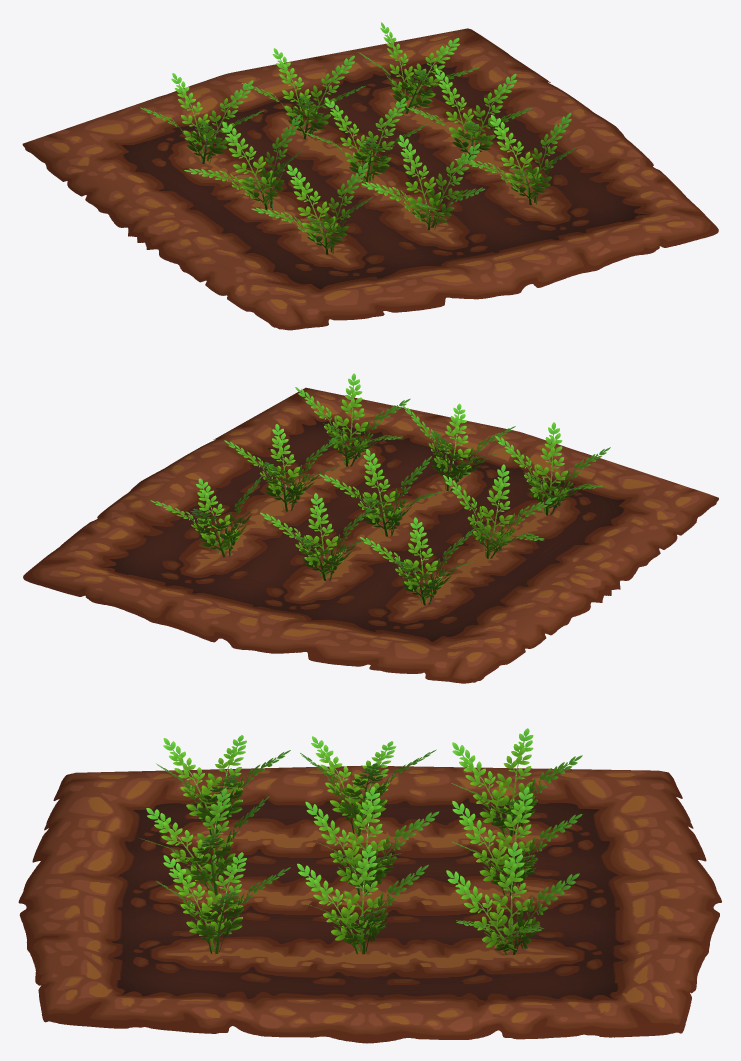
Rendered from Carrot_Field_Lv1.FBX.
3 renders of one model, top to bottom at view 1: azimuth 30°, elevation 25°; view 2: azimuth 150°, elevation 25°; view 3: azimuth 270°, elevation 25°, orthographic. The views are drawn at different scales.
Visible parts, largest first — view 1: Carrot_Field_Lv1; view 2: Carrot_Field_Lv1; view 3: Carrot_Field_Lv1.
Boxes of the visible parts, left/top/right/bottom form: Carrot_Field_Lv1: left=22, top=22, right=718, bottom=330; Carrot_Field_Lv1: left=23, top=373, right=718, bottom=683; Carrot_Field_Lv1: left=18, top=728, right=721, bottom=1043.
Size of the model in its own units: 274 by 55.18 by 296.
